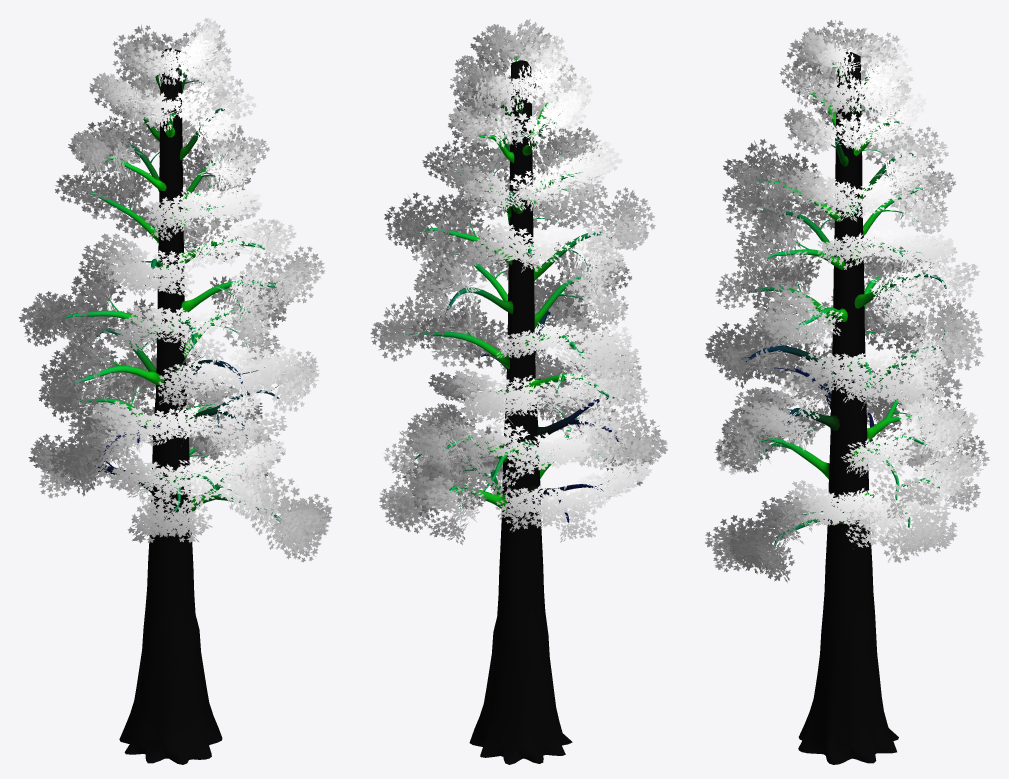
Rendered from Redwood01.fbx.
3 renders of one model, left to right at view 1: azimuth 30°, elevation 25°; view 2: azimuth 150°, elevation 25°; view 3: azimuth 270°, elevation 25°, orthographic.
Visible parts, largest first — view 1: mapleleaftex_2, _0; view 2: mapleleaftex_2, _0; view 3: mapleleaftex_2, _0.
Boxes of the visible parts, x1=… form: mapleleaftex_2: x1=18, y1=18, x2=332, y2=562; _0: x1=53, y1=48, x2=286, y2=764; mapleleaftex_2: x1=370, y1=19, x2=667, y2=544; _0: x1=403, y1=57, x2=622, y2=764; mapleleaftex_2: x1=705, y1=20, x2=989, y2=582; _0: x1=741, y1=51, x2=946, y2=764.
Size of the model in its own units: 569 by 1471 by 544.
